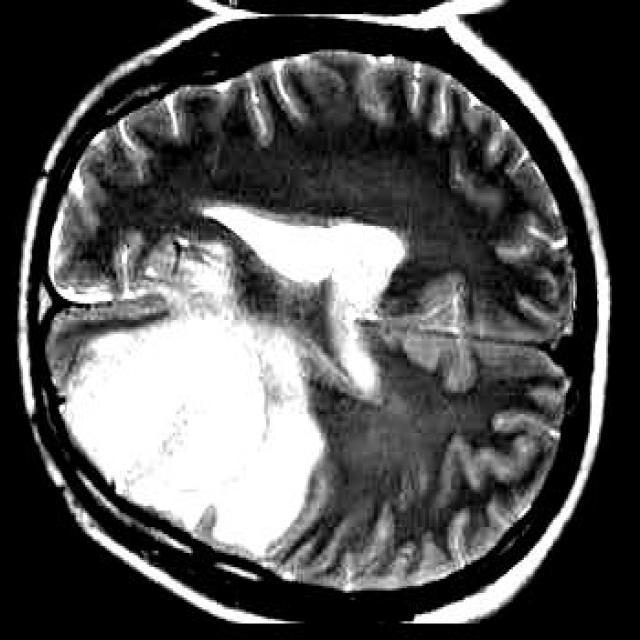tumor: (42, 256, 322, 558), (203, 207, 404, 393)
